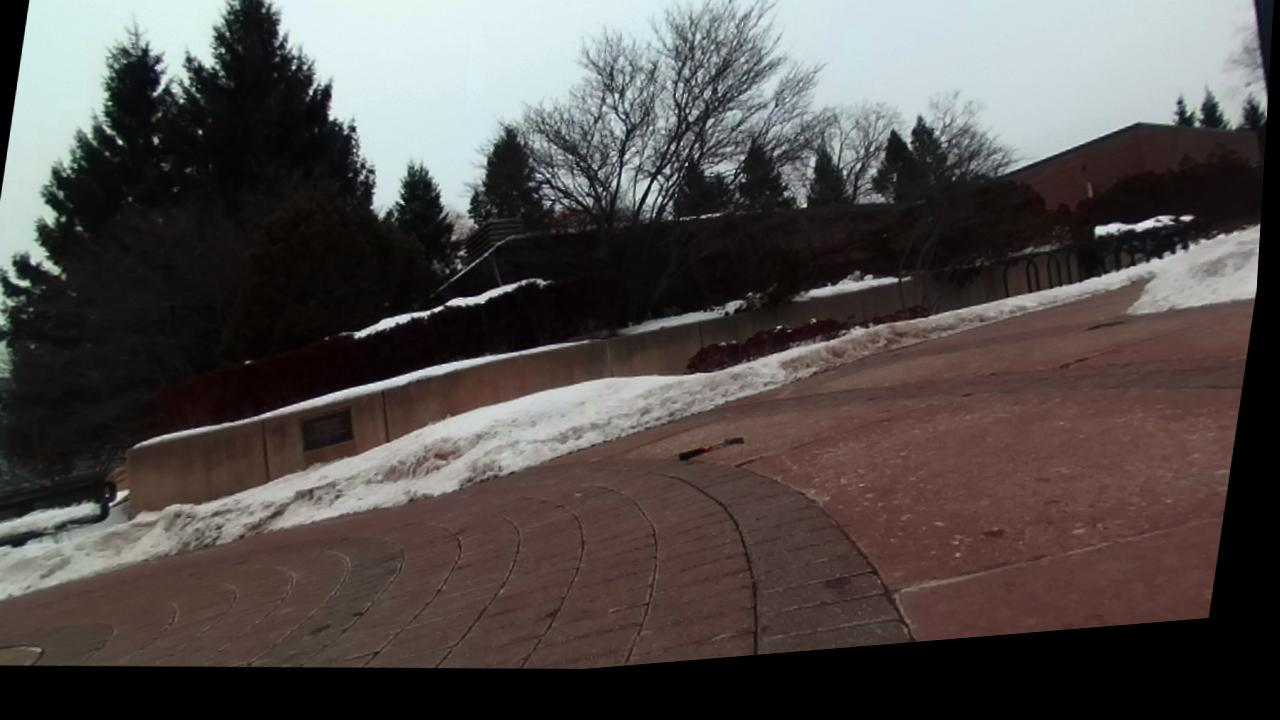pick: (678, 438, 743, 460)
